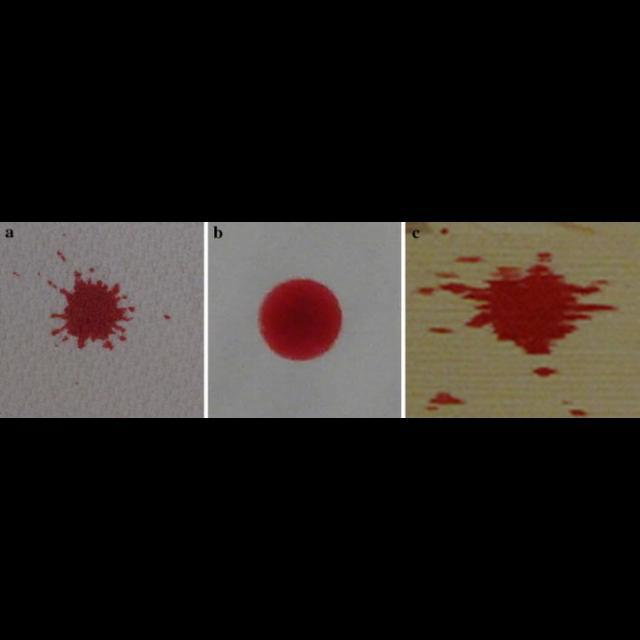blood: (438, 264, 614, 355), (257, 277, 343, 361), (50, 270, 135, 350)
